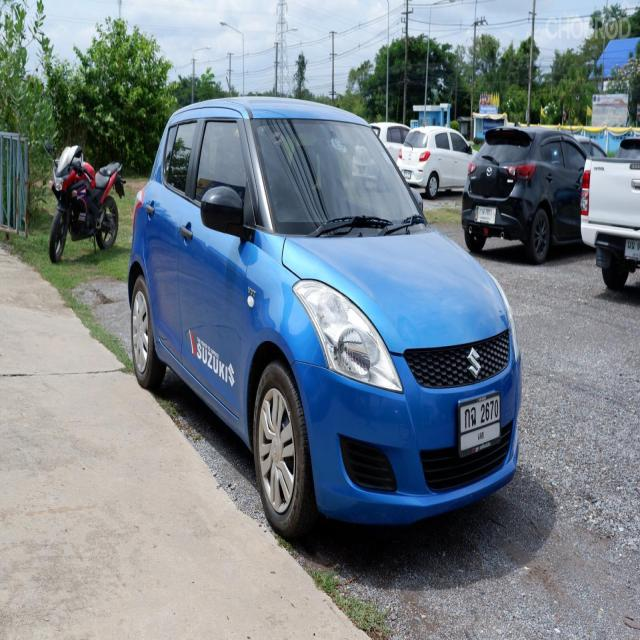license_plate: (458, 388, 504, 454), (475, 201, 496, 227), (624, 232, 640, 262), (402, 169, 413, 181)
